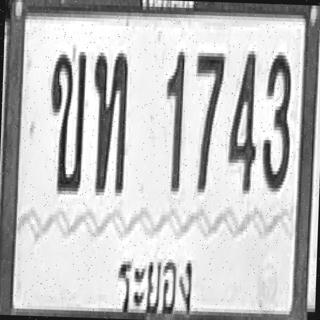A02: (47, 49, 86, 193)
A23: (90, 49, 128, 193)
N01: (162, 48, 184, 192)
N03: (260, 51, 293, 192)
N04: (226, 48, 259, 192)
N07: (192, 49, 225, 193)
P53: (114, 243, 200, 320)
